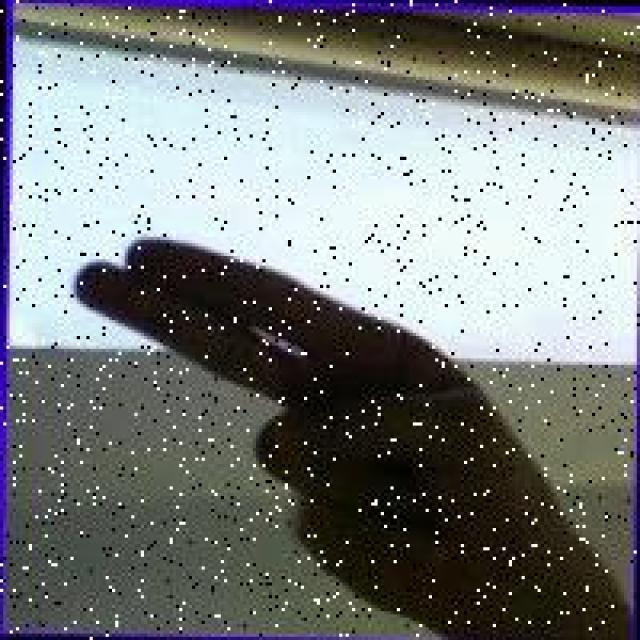H: (62, 229, 565, 635)
